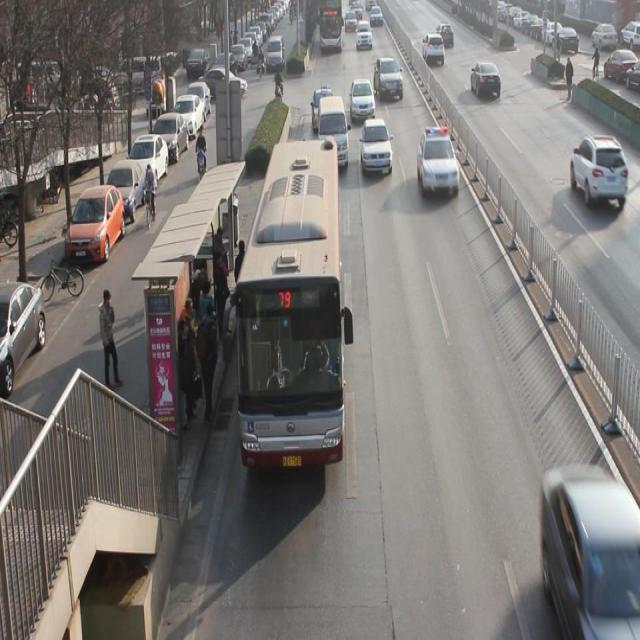car: (545, 474, 640, 629), (572, 136, 629, 212), (421, 127, 460, 200), (362, 120, 393, 173), (376, 57, 406, 105), (470, 60, 502, 100), (311, 88, 335, 134), (350, 82, 375, 118), (423, 33, 446, 68), (438, 20, 458, 50), (356, 20, 373, 52)
truck: (320, 95, 348, 167)
van: (232, 139, 344, 465), (320, 1, 344, 55)
